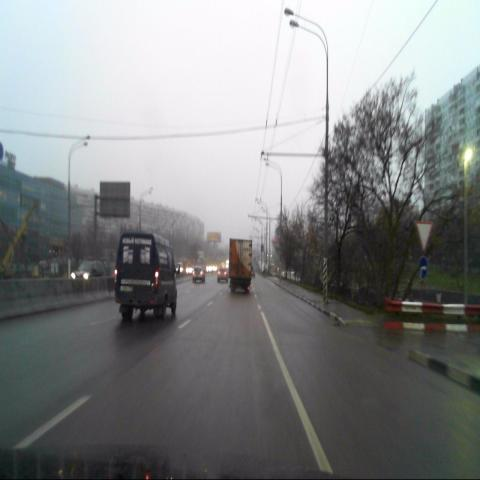2_4: (414, 220, 432, 255)
4_1_2: (416, 256, 428, 278)
